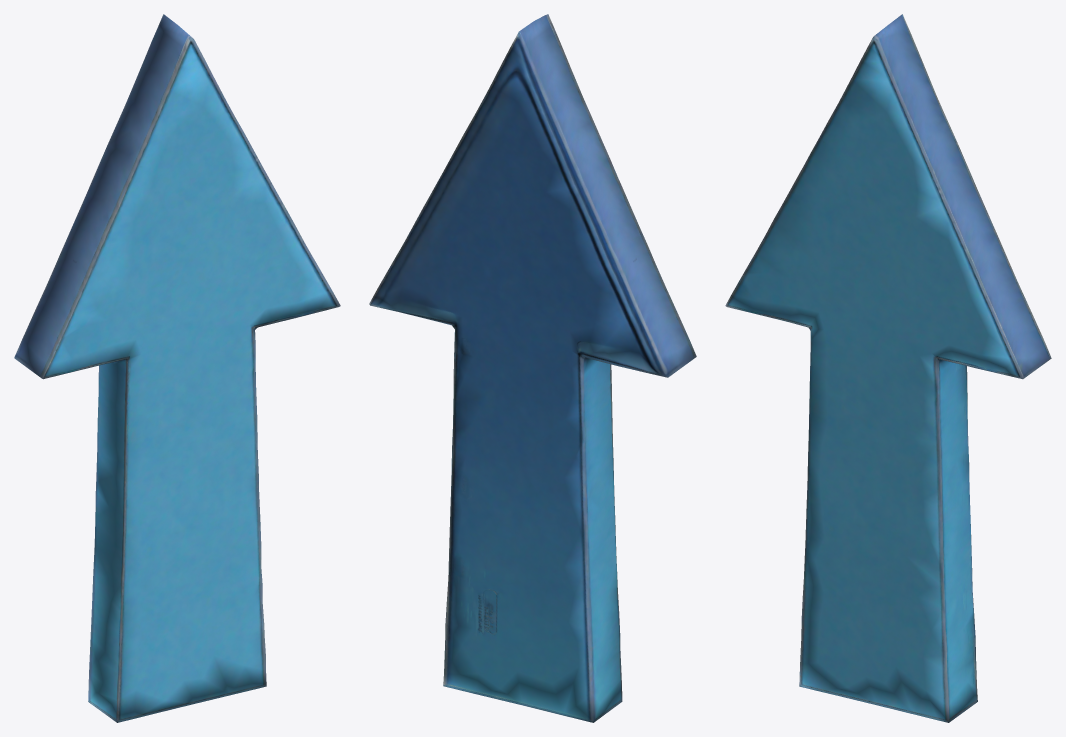
The model's file is 默认提示标.glb.
3 renders of one model, left to right at view 1: azimuth 30°, elevation 25°; view 2: azimuth 150°, elevation 25°; view 3: azimuth 330°, elevation 25°, orthographic.
Bounding box in the file's own units: 0.9337 × 2 × 0.1582.
Materials: 1 (1 with a texture image).
